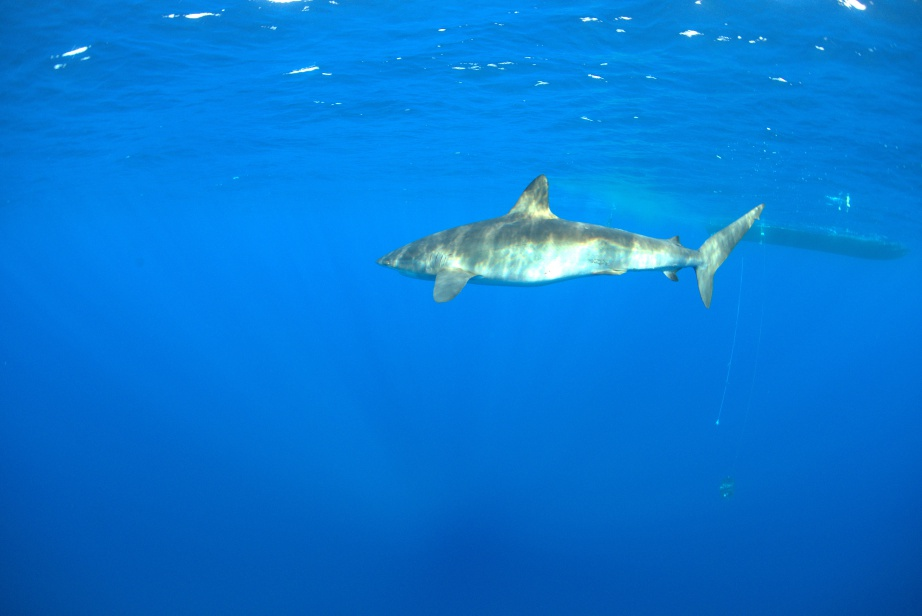Sedoso: (339, 162, 769, 320)
